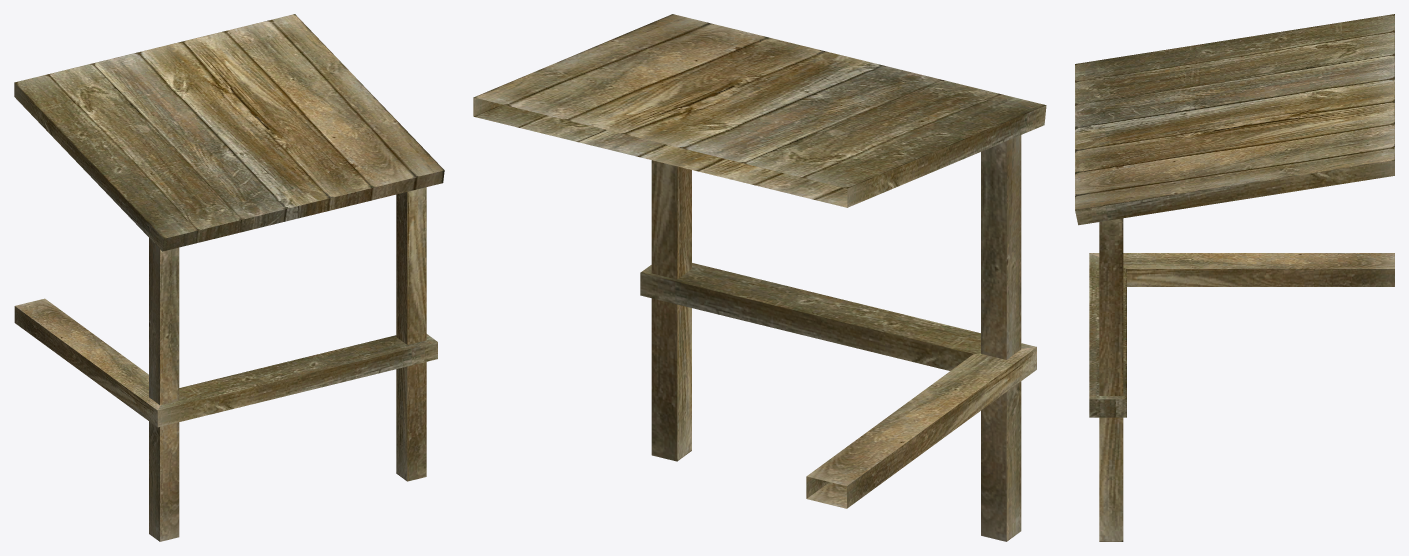
The model's file is COVER2.glb.
3 views of the same model, side by side, from view 1: azimuth 30°, elevation 25°; view 2: azimuth 150°, elevation 25°; view 3: azimuth 270°, elevation 25° (orthographic). The views are drawn at different scales.
Visible parts, largest first — view 1: COVER2-col; view 2: COVER2-col; view 3: COVER2-col.
Boxes of the visible parts, x1,y1,x2,y2 form: COVER2-col: (14, 14, 444, 541); COVER2-col: (473, 14, 1046, 541); COVER2-col: (1075, 14, 1394, 541).
Bounding box in the file's own units: 2.34 × 2.87 × 2.16.
Materials: 1 (1 with a texture image).
